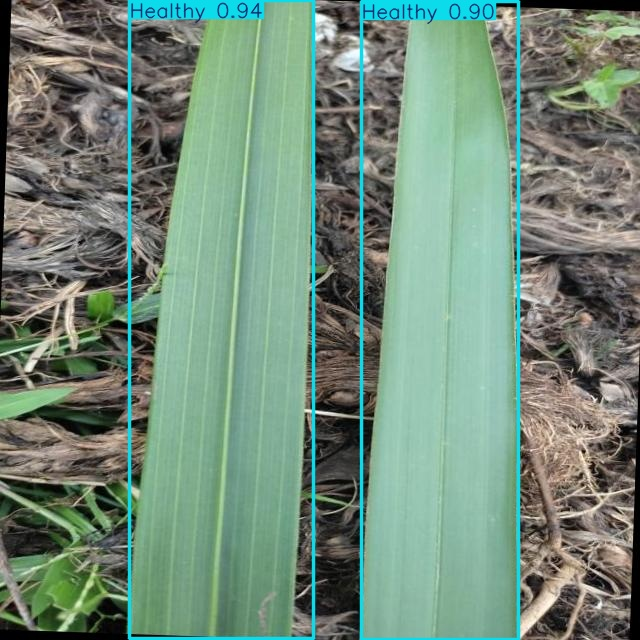Healthy: (129, 1, 313, 638), (362, 2, 519, 639)
